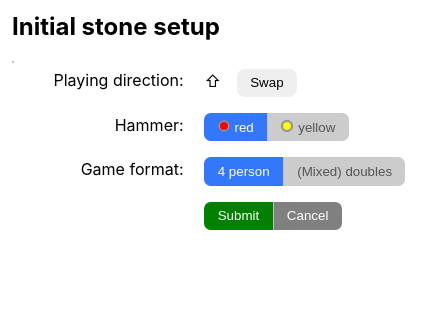
it: <StoneSetup /> › gameMode buttons › doubles should display additional buttons
Expected: the text "Left" is not shown
Click the button "(Mixed) doubles" at {"x": 345, "y": 172}, box x1=284 y1=157 x2=405 y2=186
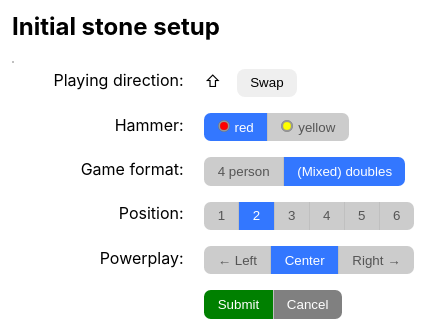
Now the button "← Left" is shown, box x1=204 y1=246 x2=271 y2=274
